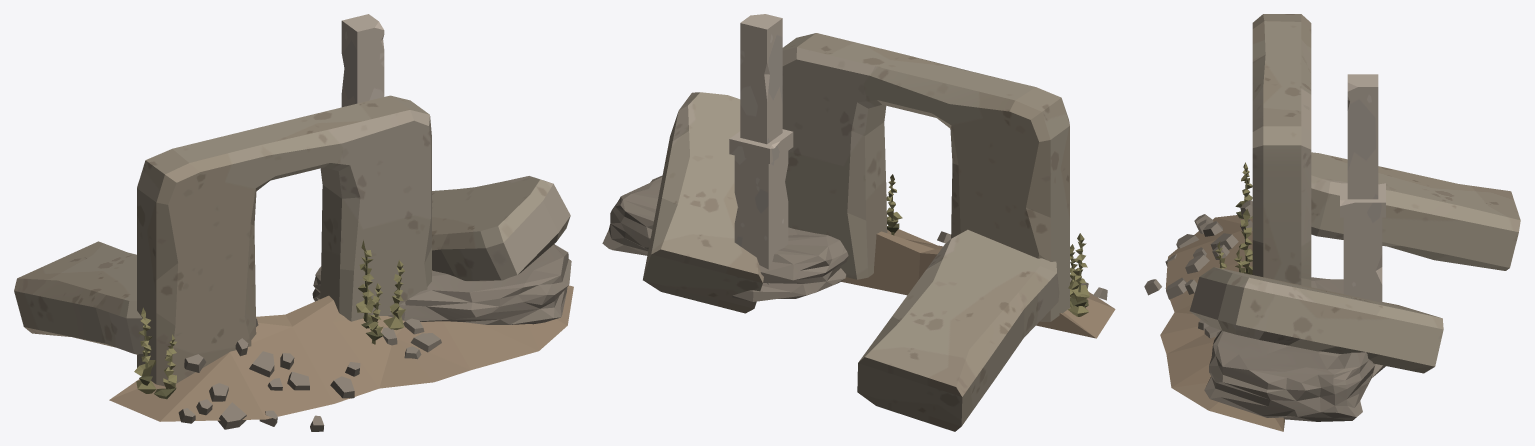
Rendered from Env_2.fbx.
The picture shows the model from 3 angles, left to right: view 1: azimuth 30°, elevation 25°; view 2: azimuth 150°, elevation 25°; view 3: azimuth 270°, elevation 25°; orthographic projection. The views are drawn at different scales.
Parts seen in each view (by area): view 1: SM_Env_Ruin_02, SM_Env_SandEdge_03, SM_Env_Ruin_01, SM_Env_Ruin_01__1_, SM_Env_Rock_Flat_02, SM_Env_Pebbles_04, SM_Bld_Village_Archway_Pillar_01, SM_Env_Plant_Tall_01, SM_Env_Plant_Tall_02, SM_Env_Pebbles_02; view 2: SM_Env_Ruin_02, SM_Env_Ruin_01__1_, SM_Env_Ruin_01, SM_Bld_Village_Archway_Pillar_01, SM_Env_Rock_Flat_02, SM_Env_SandEdge_03, SM_Env_Plant_Tall_02; view 3: SM_Env_Ruin_02, SM_Env_Ruin_01, SM_Env_Ruin_01__1_, SM_Env_Rock_Flat_02, SM_Bld_Village_Archway_Pillar_01, SM_Env_SandEdge_03, SM_Env_Pebbles_04, SM_Env_Plant_Tall_01.
Boxes of the visible parts, x1,y1,x2,y2 form: SM_Env_Ruin_02: [137, 95, 431, 386]; SM_Env_SandEdge_03: [109, 270, 573, 421]; SM_Env_Ruin_01: [432, 176, 570, 281]; SM_Env_Ruin_01__1_: [14, 241, 144, 354]; SM_Env_Rock_Flat_02: [312, 244, 571, 324]; SM_Env_Pebbles_04: [178, 317, 360, 431]; SM_Bld_Village_Archway_Pillar_01: [341, 14, 384, 107]; SM_Env_Plant_Tall_01: [356, 240, 405, 344]; SM_Env_Plant_Tall_02: [134, 307, 176, 399]; SM_Env_Pebbles_02: [381, 318, 441, 359]; SM_Env_Ruin_02: [782, 33, 1069, 321]; SM_Env_Ruin_01__1_: [857, 229, 1059, 431]; SM_Env_Ruin_01: [643, 92, 763, 313]; SM_Bld_Village_Archway_Pillar_01: [729, 14, 793, 284]; SM_Env_Rock_Flat_02: [602, 175, 848, 301]; SM_Env_SandEdge_03: [841, 229, 1115, 338]; SM_Env_Plant_Tall_02: [1068, 233, 1089, 316]; SM_Env_Ruin_02: [1252, 14, 1311, 286]; SM_Env_Ruin_01: [1189, 267, 1443, 373]; SM_Env_Ruin_01__1_: [1311, 152, 1520, 270]; SM_Env_Rock_Flat_02: [1204, 277, 1385, 421]; SM_Bld_Village_Archway_Pillar_01: [1340, 74, 1385, 302]; SM_Env_SandEdge_03: [1160, 215, 1285, 431]; SM_Env_Pebbles_04: [1144, 200, 1252, 299]; SM_Env_Plant_Tall_01: [1215, 209, 1252, 274].
Size of the model in its own units: 811 by 495 by 581.
